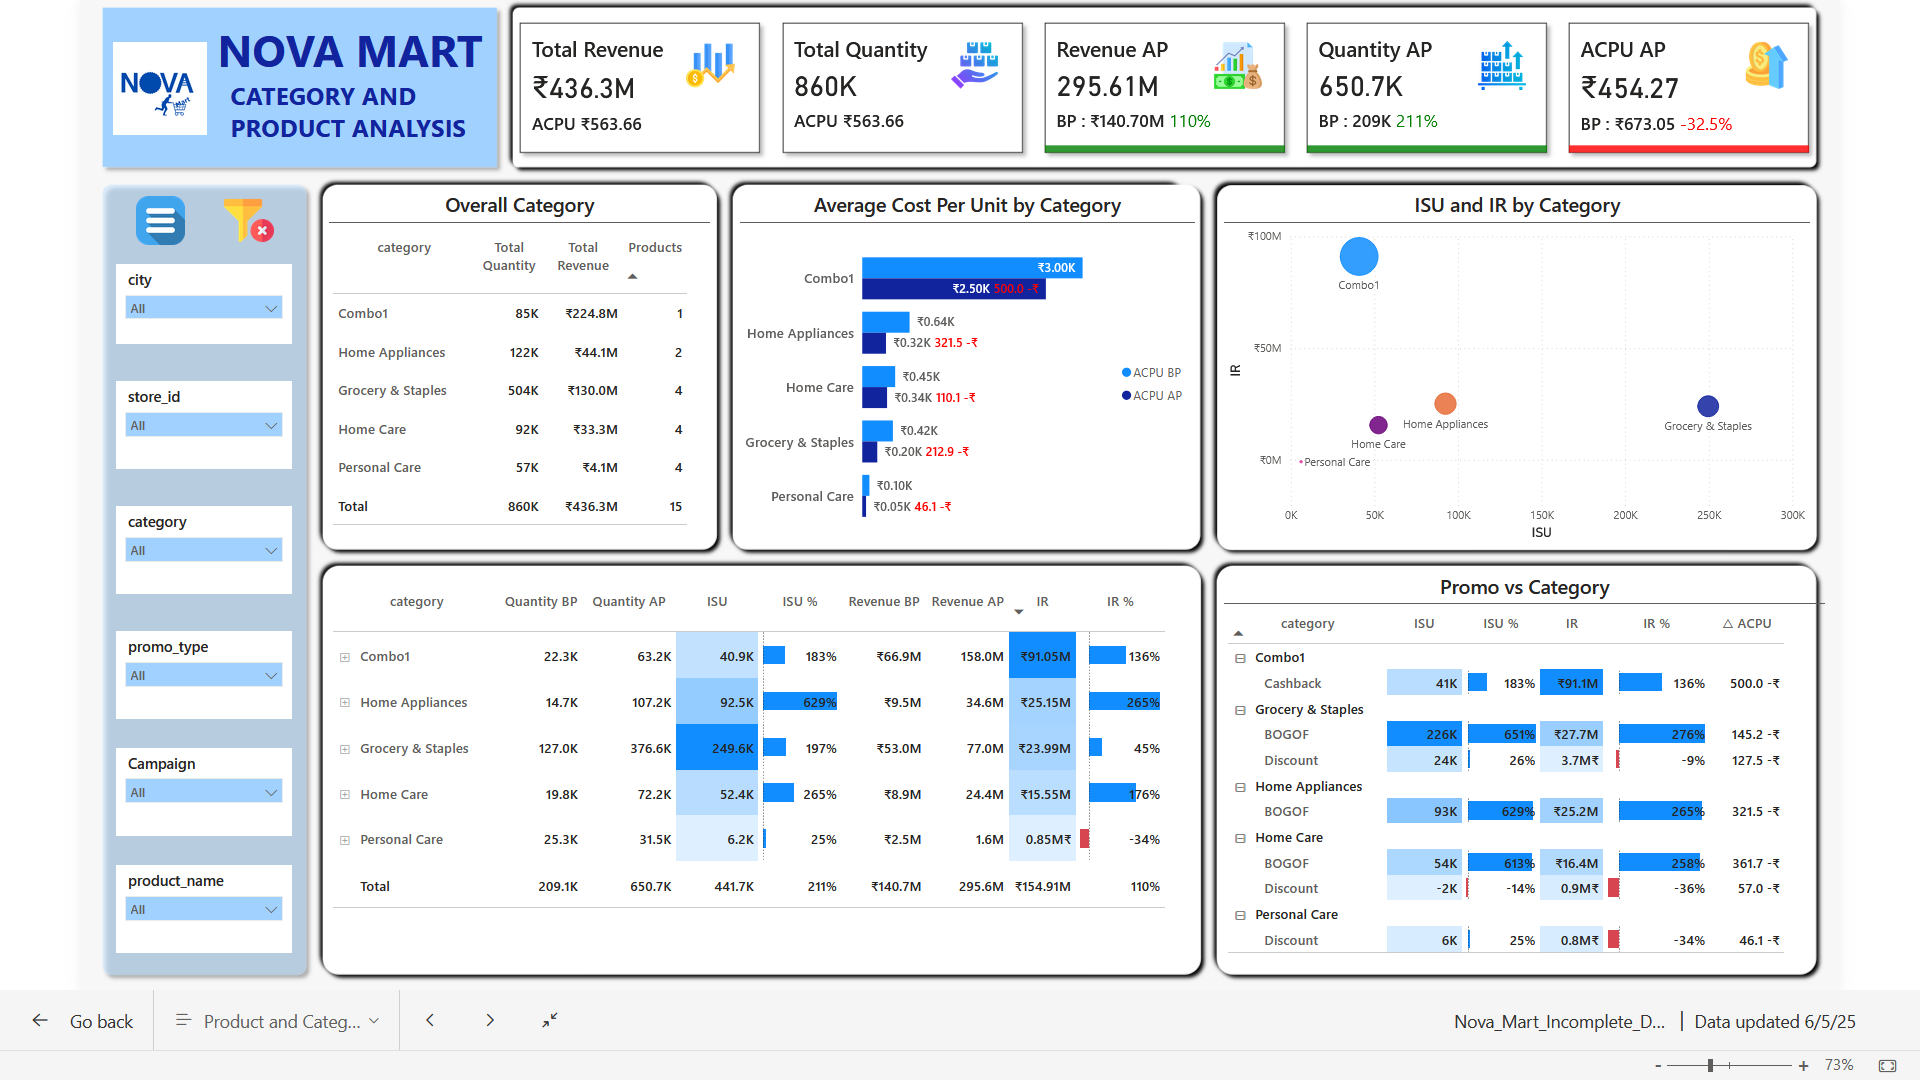

The page's visual inventory and layout, read from the dashboard file:
{"tool":"powerbi","page":{"name":"Product and Category Analysis","canvas":[1920,1080],"ordinal":2},"visuals":[{"type":"cardVisual","fields":{"Data":["Measures (2).Total Revenue","Measures (2).Total Quantity","Measures (2).Revenue_After_Promo","Measures (2).Sold_QTY_After_Promo","Measures (2).Average Cost Per Unit After"]},"box":[464,8,1440,176],"z":0,"group":"g1"},{"type":"shape","title":"Border","box":[256,192,448,416],"z":0},{"type":"image","box":[1808,40,64,64],"z":1000,"group":"g1"},{"type":"shape","title":"Border","box":[16,192,240,880],"z":1000},{"type":"image","box":[1520,40,64,64],"z":2000,"group":"g1"},{"type":"slicer","fields":{"Values":["dim_stores.store_id"]},"box":[40,416,192,96],"z":2000},{"type":"image","box":[944,40,64,64],"z":3000,"group":"g1"},{"type":"slicer","fields":{"Values":["dim_stores.city"]},"box":[40,288,192,88],"z":3000},{"type":"image","box":[656,40,64,64],"z":4000,"group":"g1"},{"type":"slicer","fields":{"Values":["dim_products.category"]},"box":[40,552,192,96],"z":4000},{"type":"image","box":[1232,40,64,64],"z":5000,"group":"g1"},{"type":"slicer","fields":{"Values":["fact_events.promo_type"]},"box":[40,688,192,96],"z":5000},{"type":"slicer","fields":{"Values":["dim_campaigns.campaign_name"]},"box":[40,816,192,96],"z":6000},{"type":"slicer","fields":{"Values":["dim_products.product_name"]},"box":[40,944,192,96],"z":7000},{"type":"shape","box":[16,0,448,192],"z":8000},{"type":"image","box":[32,16,112,160],"z":9000},{"type":"textbox","box":[144,16,336,96],"z":10000},{"type":"image","box":[48,208,80,64],"z":11000},{"type":"shape","title":"Border","box":[464,0,1440,192],"z":12000},{"type":"shape","title":"Border","box":[464,0,1440,192],"z":13000},{"type":"group","id":"g1","title":"Group 1","box":[464,8,1440,176],"z":14000},{"type":"shape","title":"Border","box":[256,608,976,464],"z":15000},{"type":"shape","title":"Border","box":[1232,608,672,464],"z":16000},{"type":"shape","title":"Border","box":[704,192,512,416],"z":17000},{"type":"shape","title":"Border","box":[704,192,528,416],"z":18000},{"type":"shape","title":"Border","box":[256,192,448,416],"z":19000},{"type":"shape","title":"Border","box":[256,608,976,464],"z":20000},{"type":"shape","title":"Border","box":[1232,608,672,464],"z":21000},{"type":"pivotTable","fields":{"Values":["Measures (2).Sold_QTY_Before_Promo","Measures (2).Sold_QTY_After_Promo","Measures (2).ISU","Measures (2).ISU %","Measures (2).Revenue_Before_Promo","Measures (2).Revenue_After_Promo","Measures (2).IR","Measures (2).IR %"],"Rows":["dim_products.category","dim_products.product_name"]},"box":[272,624,944,432],"z":22000},{"type":"clusteredBarChart","title":"Average Cost Per Unit by Category","fields":{"Category":["dim_products.category"],"Y":["Measures (2).Average Cost Per Unit Before","Measures (2).Average Cost Per Unit After"]},"box":[720,208,496,384],"z":23000},{"type":"pivotTable","title":"Promo vs Category","fields":{"Rows":["dim_products.category","fact_events.Promo_Category"],"Values":["Measures (2).ISU","Measures (2).ISU %","Measures (2).IR","Measures (2).IR %","Measures (2).△ ACPU"]},"box":[1248,624,656,448],"z":24000},{"type":"pivotTable","title":"Overall Category","fields":{"Rows":["dim_products.category"],"Values":["Measures (2).Total Quantity","Measures (2).Total Revenue","Count(dim_products.product_code)"]},"box":[272,208,416,384],"z":25000},{"type":"shape","title":"Border","box":[1232,192,672,416],"z":26000},{"type":"shape","title":"Border","box":[1232,192,672,416],"z":27000},{"type":"scatterChart","title":"ISU and IR by Category","fields":{"Category":["dim_products.category","dim_products.product_name"],"X":["Measures (2).ISU"],"Y":["Measures (2).IR"],"Series":["dim_products.category"],"Size":["Measures (2).IR"]},"box":[1248,208,640,384],"z":28000},{"type":"textbox","box":[160,80,320,96],"z":29000},{"type":"image","box":[144,208,80,64],"z":30000}]}

Visuals, with their boxes on the page's 1920x1080 design canvas (x1, y1, x2, y2). These are canvas units, not pixel positions in the 1920x1080 screenshot, which may show the page scaled, cropped or inside an application window:
cardVisual - Measures (2).Total Revenue x Measures (2).Total Quantity: Rect(464, 8, 1904, 184)
"Border" shape: Rect(256, 192, 704, 608)
image: Rect(1808, 40, 1872, 104)
"Border" shape: Rect(16, 192, 256, 1072)
image: Rect(1520, 40, 1584, 104)
slicer - dim_stores.store_id: Rect(40, 416, 232, 512)
image: Rect(944, 40, 1008, 104)
slicer - dim_stores.city: Rect(40, 288, 232, 376)
image: Rect(656, 40, 720, 104)
slicer - dim_products.category: Rect(40, 552, 232, 648)
image: Rect(1232, 40, 1296, 104)
slicer - fact_events.promo_type: Rect(40, 688, 232, 784)
slicer - dim_campaigns.campaign_name: Rect(40, 816, 232, 912)
slicer - dim_products.product_name: Rect(40, 944, 232, 1040)
shape: Rect(16, 0, 464, 192)
image: Rect(32, 16, 144, 176)
textbox: Rect(144, 16, 480, 112)
image: Rect(48, 208, 128, 272)
"Border" shape: Rect(464, 0, 1904, 192)
"Border" shape: Rect(464, 0, 1904, 192)
"Group 1" group: Rect(464, 8, 1904, 184)
"Border" shape: Rect(256, 608, 1232, 1072)
"Border" shape: Rect(1232, 608, 1904, 1072)
"Border" shape: Rect(704, 192, 1216, 608)
"Border" shape: Rect(704, 192, 1232, 608)
"Border" shape: Rect(256, 192, 704, 608)
"Border" shape: Rect(256, 608, 1232, 1072)
"Border" shape: Rect(1232, 608, 1904, 1072)
pivotTable - Measures (2).Sold_QTY_Before_Promo x Measures (2).Sold_QTY_After_Promo: Rect(272, 624, 1216, 1056)
"Average Cost Per Unit by Category" clusteredBarChart: Rect(720, 208, 1216, 592)
"Promo vs Category" pivotTable: Rect(1248, 624, 1904, 1072)
"Overall Category" pivotTable: Rect(272, 208, 688, 592)
"Border" shape: Rect(1232, 192, 1904, 608)
"Border" shape: Rect(1232, 192, 1904, 608)
"ISU and IR by Category" scatterChart: Rect(1248, 208, 1888, 592)
textbox: Rect(160, 80, 480, 176)
image: Rect(144, 208, 224, 272)
